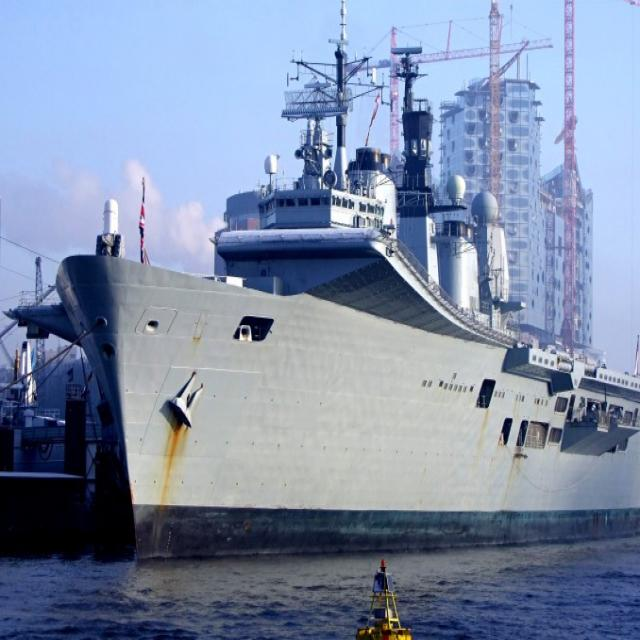Portanaves: (49, 1, 640, 578)
